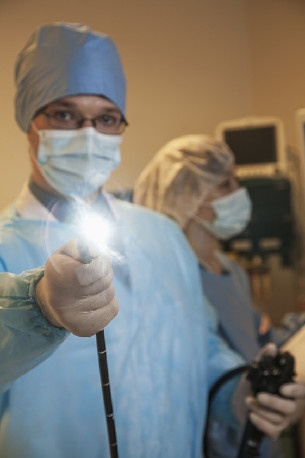Mask: (34, 97, 134, 196)
